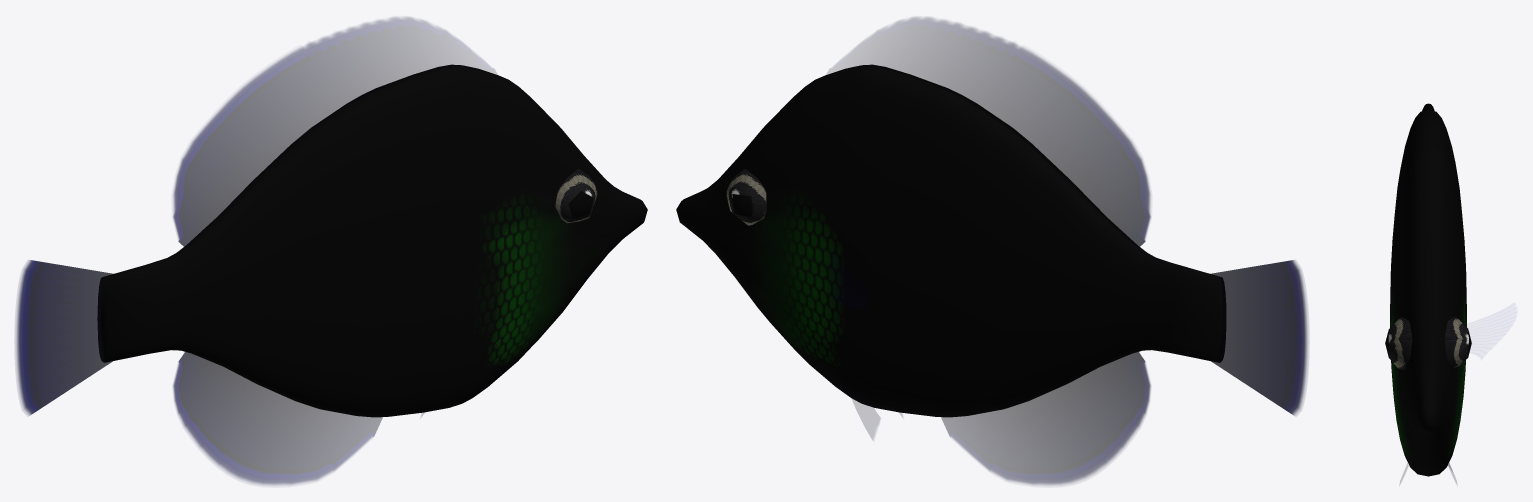
The model's file is wrought_iron_butterfly_lod1.glb.
3 renders of one model, left to right at view 1: azimuth 30°, elevation 25°; view 2: azimuth 150°, elevation 25°; view 3: azimuth 270°, elevation 25°, orthographic. The views are drawn at different scales.
Parts seen in each view (by area): view 1: Body, FinDorsal, FinAnal, FinCaudal, EyeR; view 2: Body, FinDorsal, FinAnal, FinCaudal, EyeL; view 3: Body, EyeR, EyeL.
Boxes of the visible parts, x1,y1,x2,y2 form: Body: (97,64,647,417); FinDorsal: (173,17,497,247); FinAnal: (173,352,382,485); FinCaudal: (15,260,115,415); EyeR: (555,169,598,223); Body: (676,64,1225,417); FinDorsal: (826,17,1150,247); FinAnal: (941,352,1150,485); FinCaudal: (1208,260,1308,415); EyeL: (725,169,766,225); Body: (1390,103,1466,476); EyeR: (1385,317,1412,369); EyeL: (1444,316,1471,367).
Bounding box in the file's own units: 1 × 0.6801 × 0.2554.
4 materials, 3 textured.
